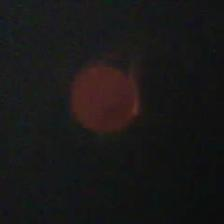fertile: (65, 58, 144, 138)
